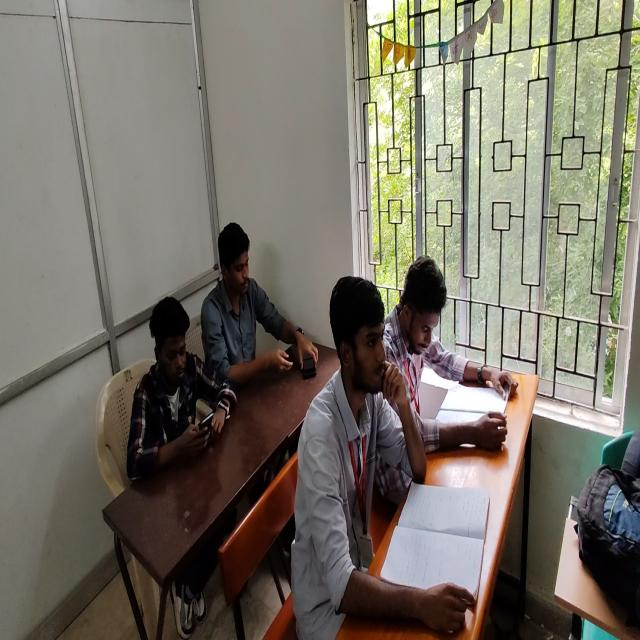listening: (303, 275, 451, 640)
reading: (386, 251, 520, 493), (198, 220, 308, 397)
using_mobile: (127, 292, 240, 481)
